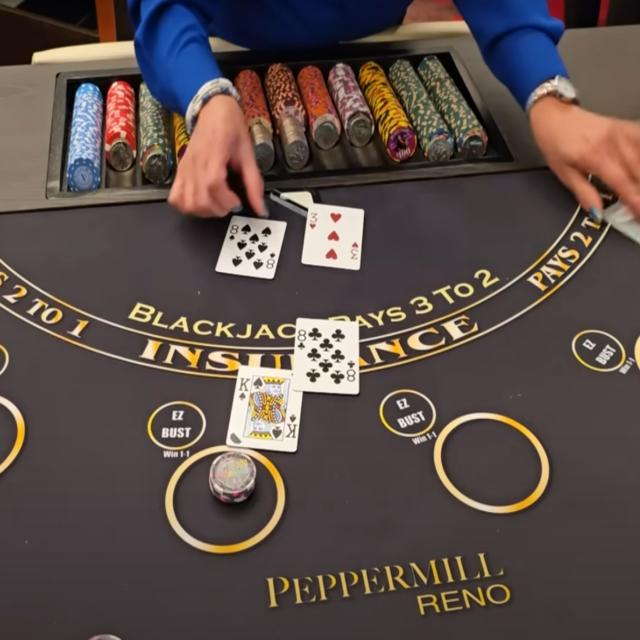3: (309, 211, 319, 223)
8: (296, 328, 307, 342), (230, 222, 239, 234)
K: (238, 375, 250, 393)
